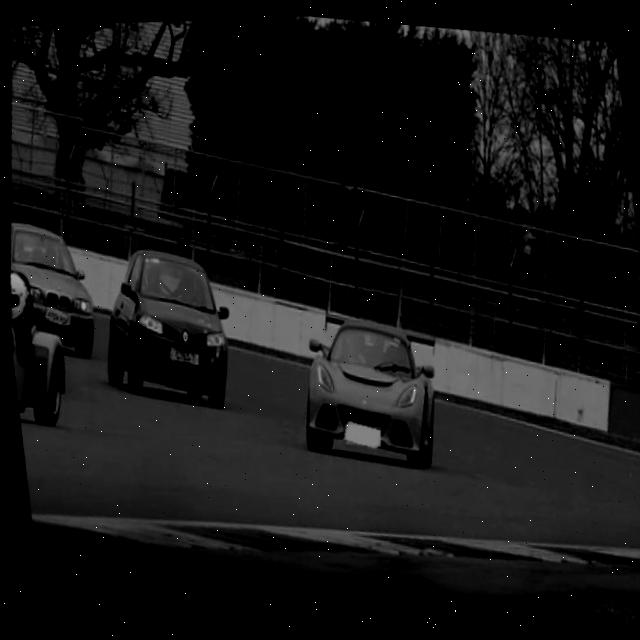LicensePlate: (341, 416, 378, 444), (42, 305, 66, 324), (166, 348, 194, 361)
